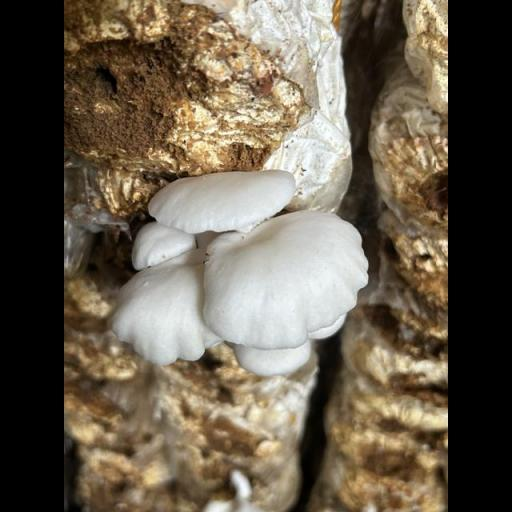White Oyster Mushroom: (112, 171, 367, 373)
